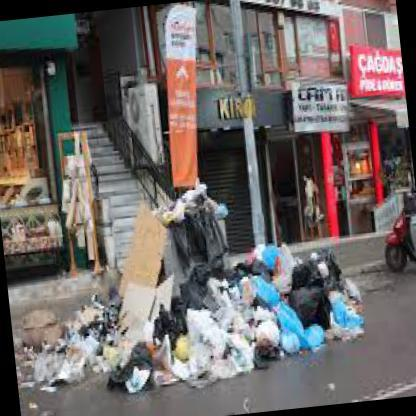Garbage: (150, 236, 388, 372), (306, 250, 361, 338), (254, 310, 306, 390), (99, 330, 152, 408), (238, 227, 292, 291), (272, 286, 320, 356), (174, 210, 224, 276), (230, 268, 286, 320), (178, 302, 226, 358), (320, 290, 364, 350), (68, 294, 118, 341), (43, 356, 81, 406), (164, 184, 218, 216)
